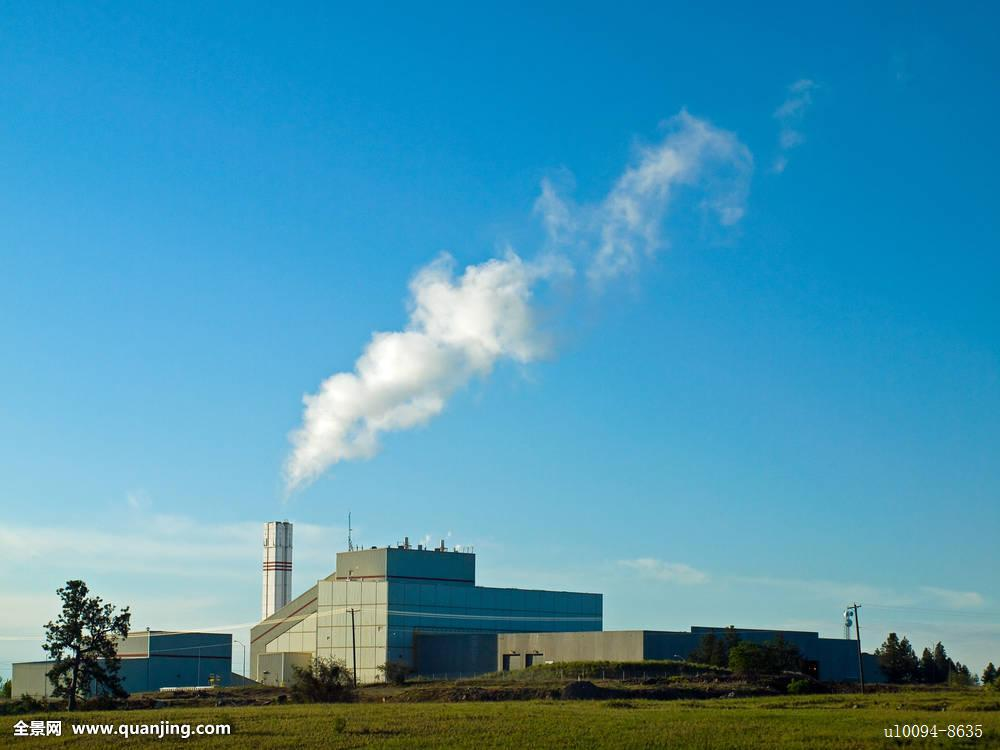dust: (250, 296, 422, 543)
